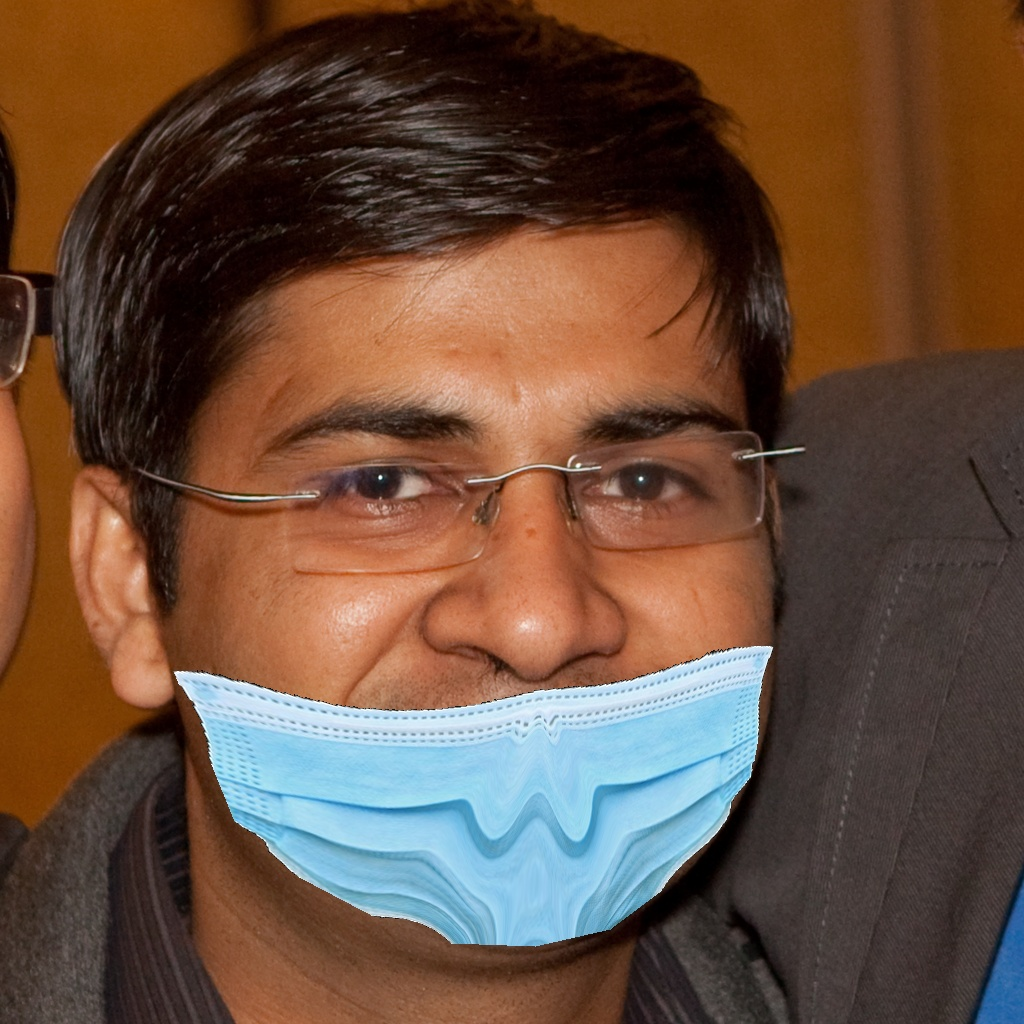mask_weared_incorrect: (143, 376, 805, 961)
